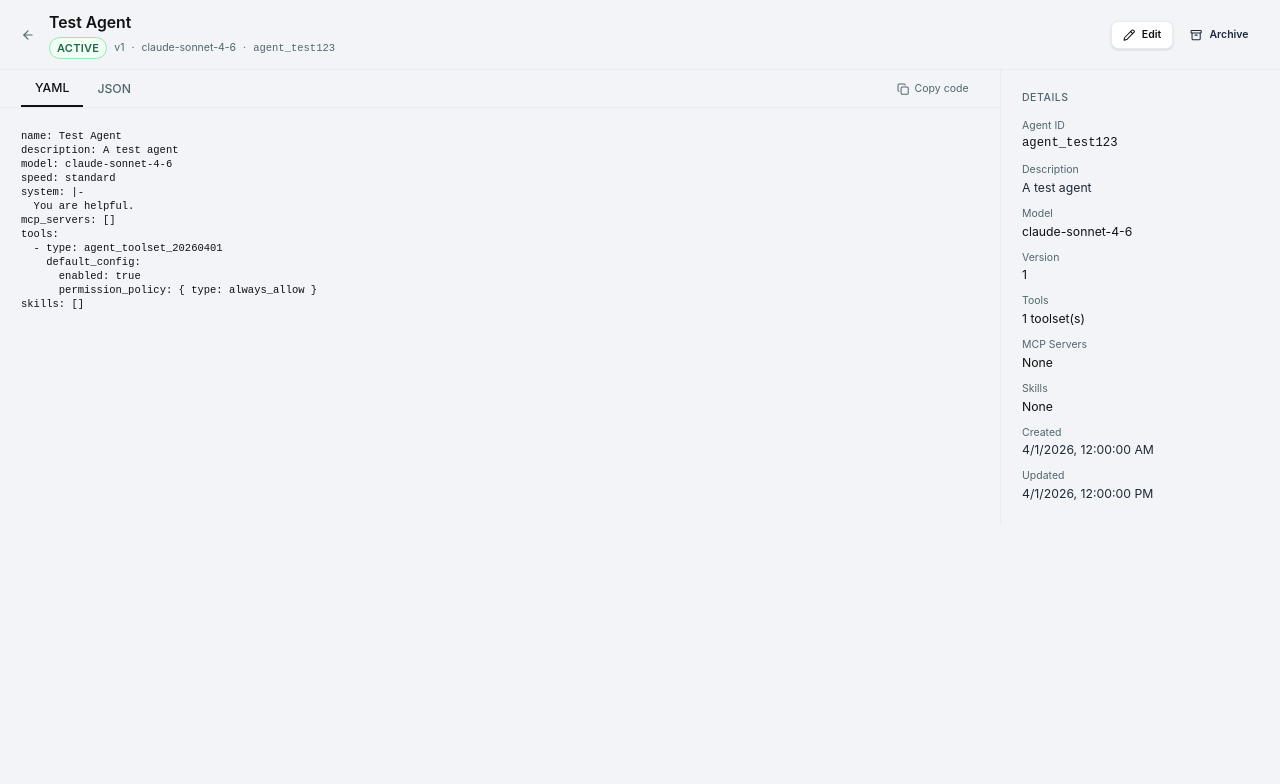
AgentDetailPage › swaps the config view for form inputs when Edit is clicked
Expected: the heading "Test Agent" is shown, [49,12,131,32]
Click the button "Edit".
click(1142, 35)  # box [1111,21,1173,49]
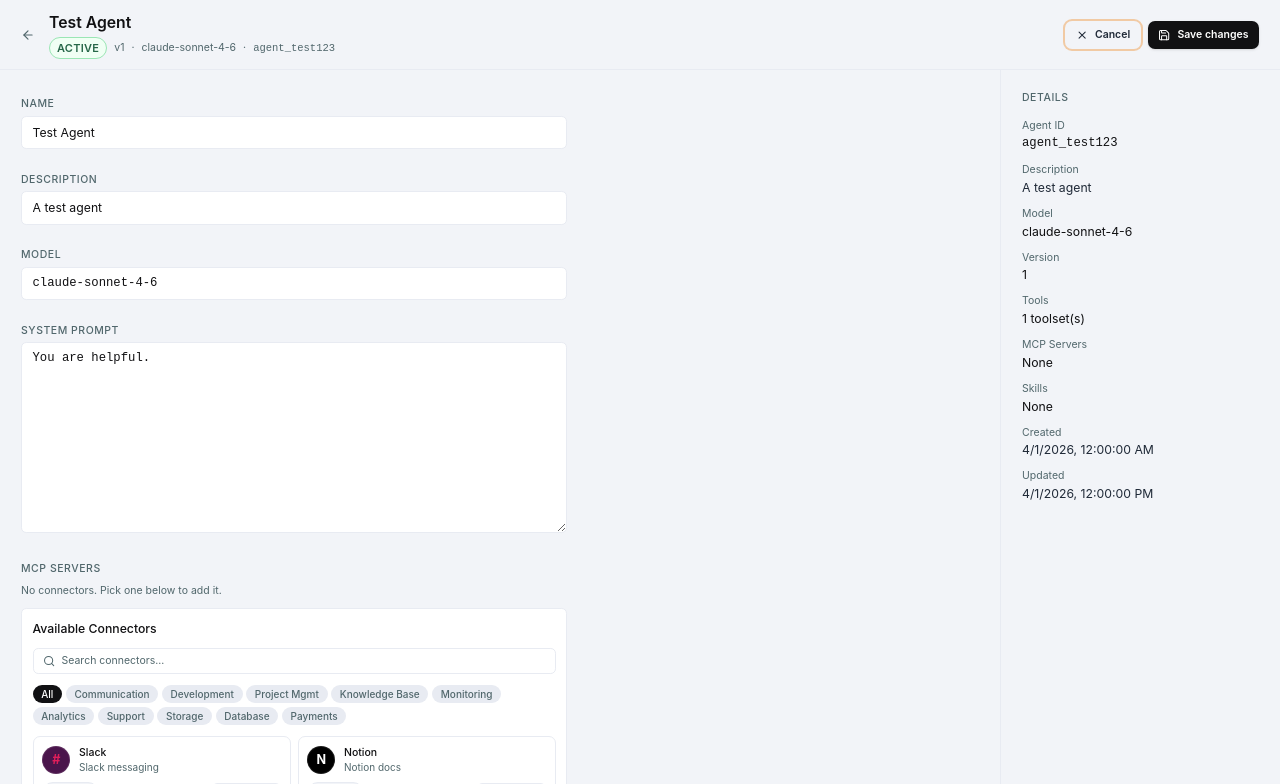
Now the field showing "Test Agent" is shown, box [21,116,567,149]
Now the field showing "A test agent" is shown, box [21,191,567,225]
Now the text box showing "You are helpful." is shown, box [21,342,567,533]
